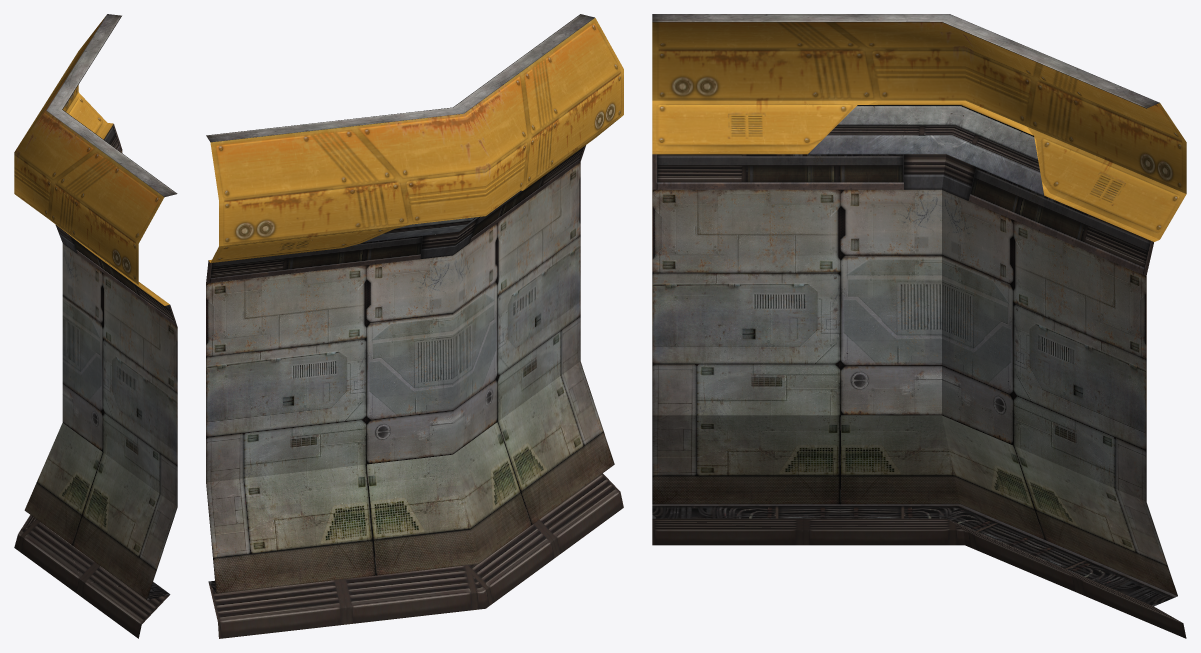
File: Wall_WallSideANew_05.fbx
3 renders of one model, left to right at view 1: azimuth 30°, elevation 25°; view 2: azimuth 150°, elevation 25°; view 3: azimuth 270°, elevation 25°, orthographic. The views are drawn at different scales.
Parts seen in each view (by area): view 1: Wall_WallSideANew_05; view 2: Wall_WallSideANew_05; view 3: Wall_WallSideANew_05.
Boxes of the visible parts, x1=… form: Wall_WallSideANew_05: x1=14, y1=14, x2=177, y2=638; Wall_WallSideANew_05: x1=206, y1=14, x2=623, y2=638; Wall_WallSideANew_05: x1=652, y1=14, x2=1186, y2=638.
Size of the model in its own units: 173 by 400 by 354.
Materials: 1 (1 with a texture image).
